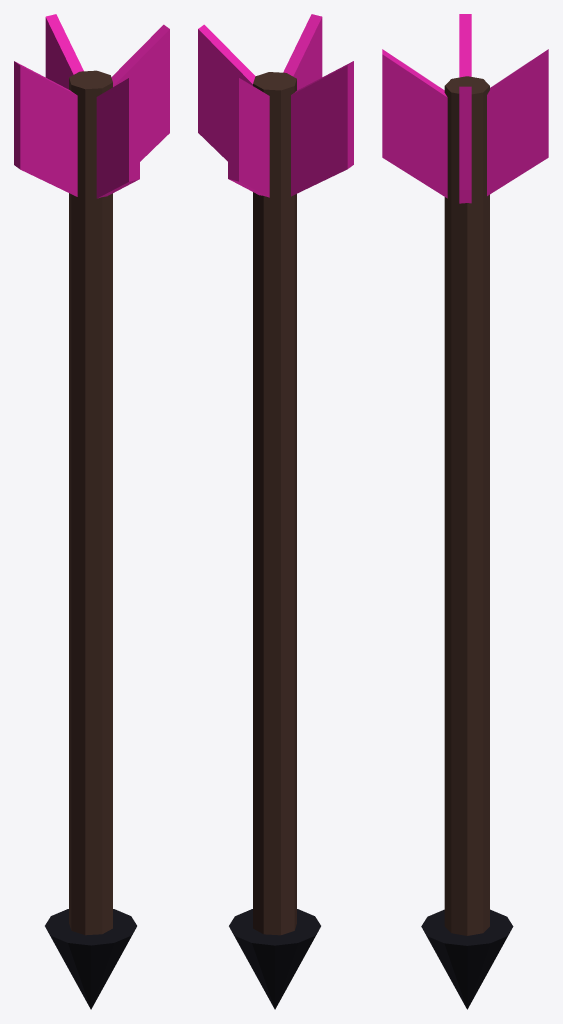
The model's file is Arrow.fbx.
The picture shows the model from 3 angles, left to right: view 1: azimuth 30°, elevation 25°; view 2: azimuth 150°, elevation 25°; view 3: azimuth 270°, elevation 25°; orthographic projection.
Parts seen in each view (by area): view 1: Cylinder; view 2: Cylinder; view 3: Cylinder.
Part boxes in pixels (box(x1,y1,x2,y2)): Cylinder: box(14, 14, 169, 1009); Cylinder: box(198, 14, 353, 1009); Cylinder: box(382, 14, 548, 1009).
Bounding box in the file's own units: 522 × 3216 × 504.
